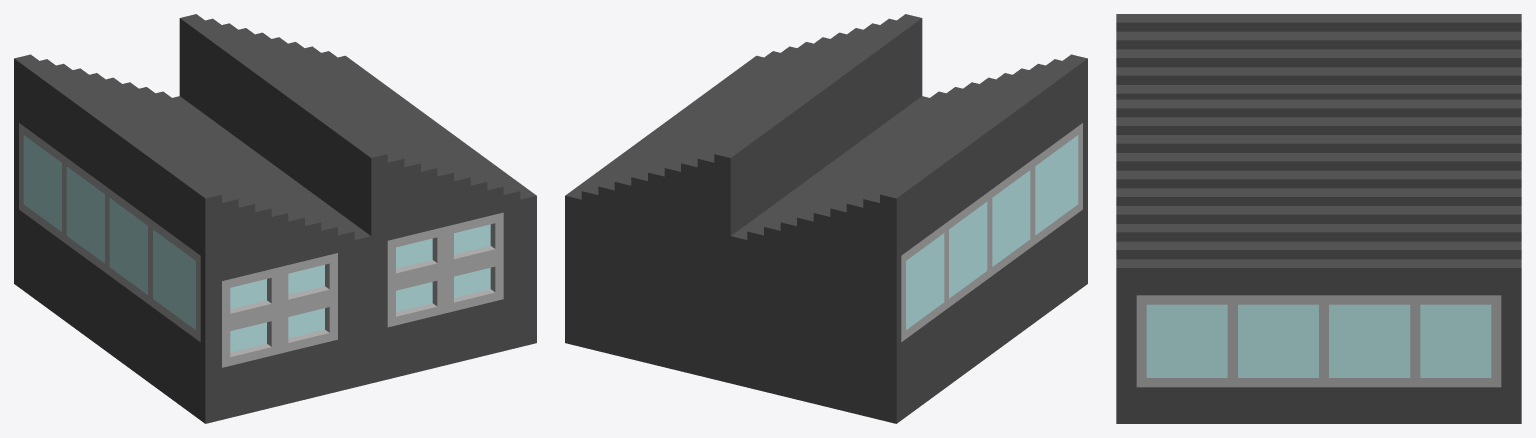
The model's file is spinnery.fbx.
3 views of the same model, side by side, from view 1: azimuth 30°, elevation 25°; view 2: azimuth 150°, elevation 25°; view 3: azimuth 270°, elevation 25° (orthographic). The views are drawn at different scales.
Parts seen in each view (by area): view 1: Untitled; view 2: Untitled; view 3: Untitled.
Part boxes in pixels (bbox=[...]): Untitled: bbox=[14, 14, 536, 423]; Untitled: bbox=[565, 14, 1087, 423]; Untitled: bbox=[1116, 14, 1521, 423].
Bounding box in the file's own units: 40 × 26 × 40.
Materials: 1 (1 with a texture image).
